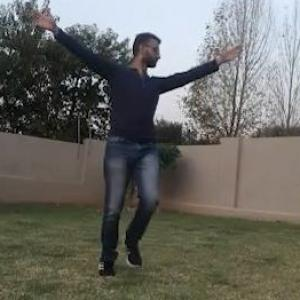takeoff: (27, 0, 251, 280)
